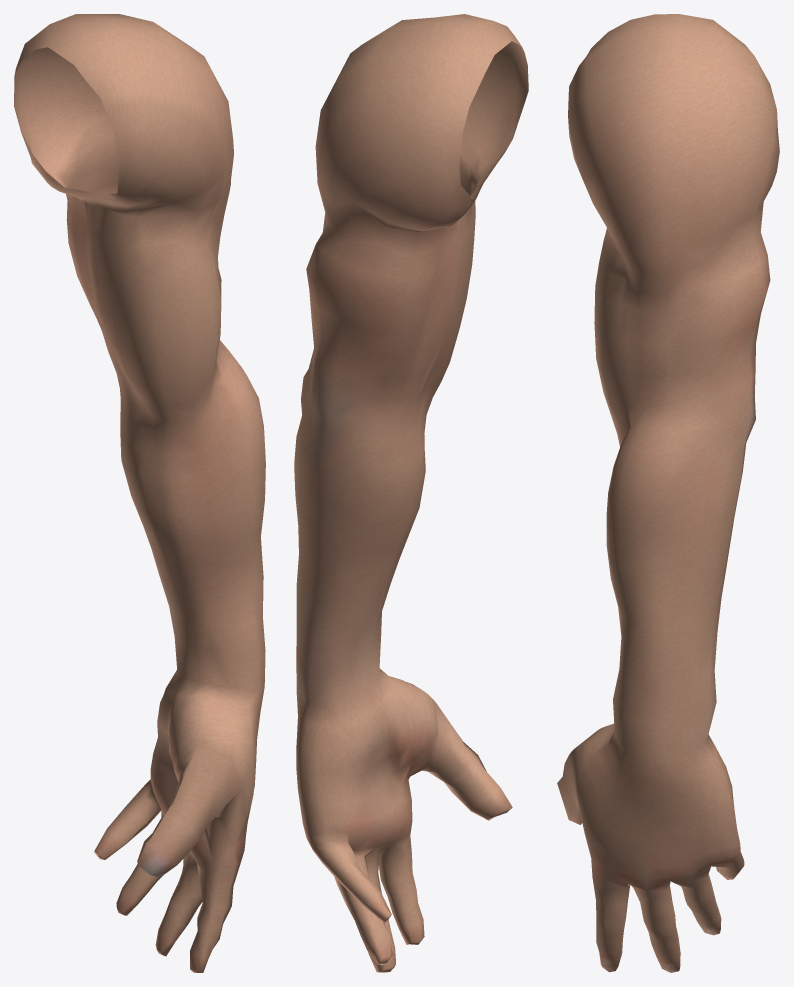
The model's file is arm_anatomy.glb.
3 renders of one model, left to right at view 1: azimuth 30°, elevation 25°; view 2: azimuth 150°, elevation 25°; view 3: azimuth 270°, elevation 25°, orthographic. The views are drawn at different scales.
Visible parts, largest first — view 1: defaultMaterial; view 2: defaultMaterial; view 3: defaultMaterial.
Part boxes in pixels (bbox=[...]): defaultMaterial: bbox=[14, 14, 265, 972]; defaultMaterial: bbox=[294, 14, 528, 972]; defaultMaterial: bbox=[557, 14, 779, 972].
Size of the model in its own units: 0.4441 by 2 by 0.4397.
1 material, 1 textured.
